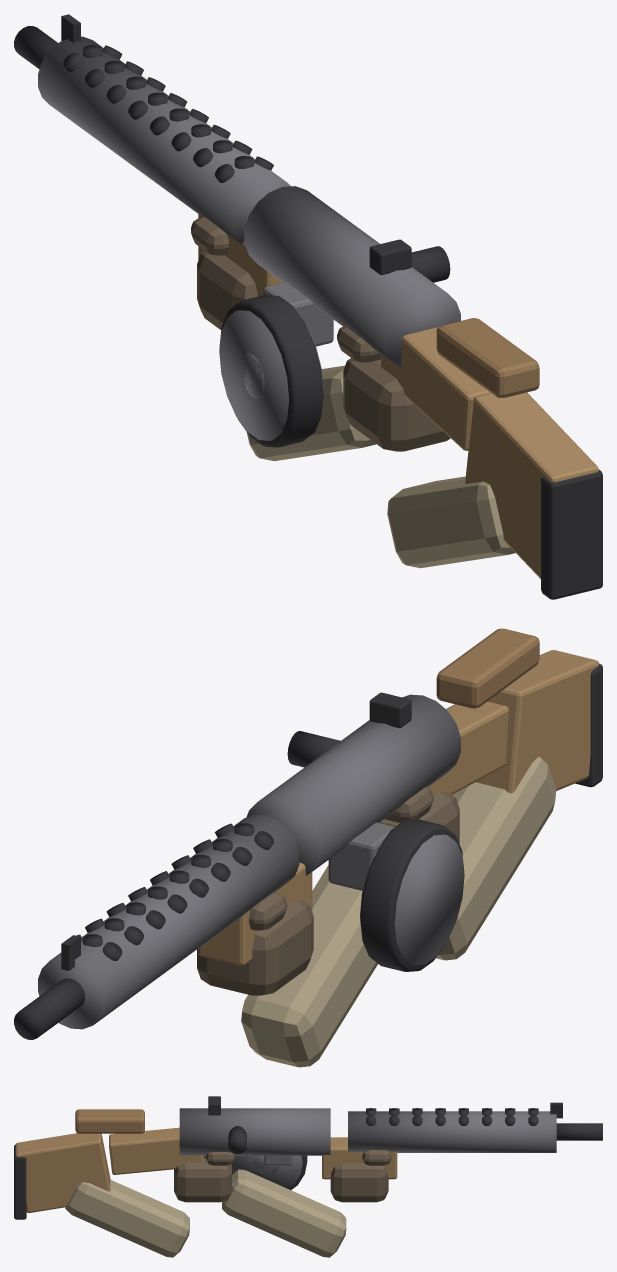
File: avtomat.glb
The picture shows the model from 3 angles, top to bottom: view 1: azimuth 30°, elevation 25°; view 2: azimuth 150°, elevation 25°; view 3: azimuth 270°, elevation 25°; orthographic projection. The views are drawn at different scales.
Visible parts, largest first — view 1: Avtomat; view 2: Avtomat; view 3: Avtomat.
Boxes of the visible parts, x1,y1,x2,y2 form: Avtomat: [14, 14, 602, 599]; Avtomat: [14, 628, 602, 1067]; Avtomat: [14, 1096, 602, 1257].
Size of the model in its own units: 0.1725 by 0.2901 by 1.02.
